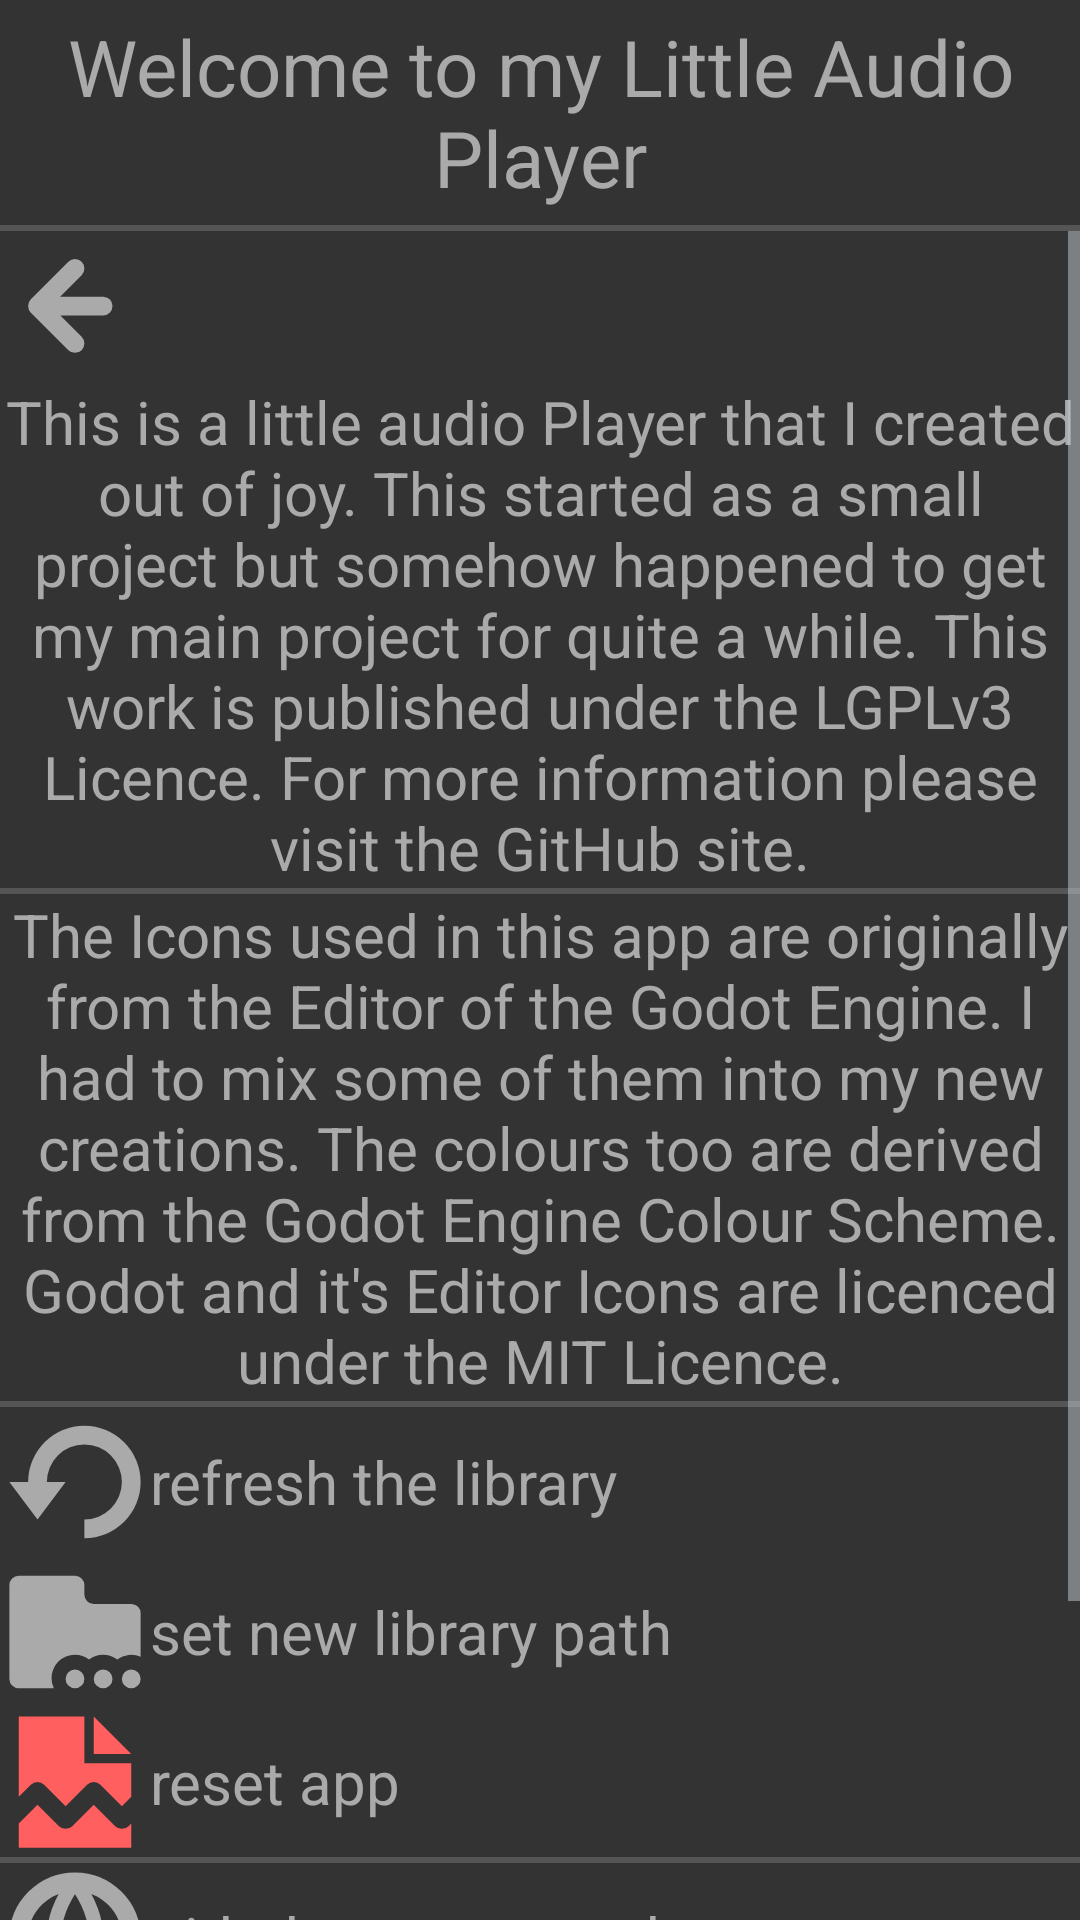

Where to tap for icons on this 1080×1920 app screen, as point (x, y):
back: point (70, 306)
